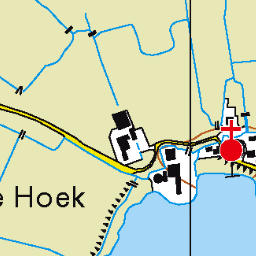church: (217, 117, 246, 164)
